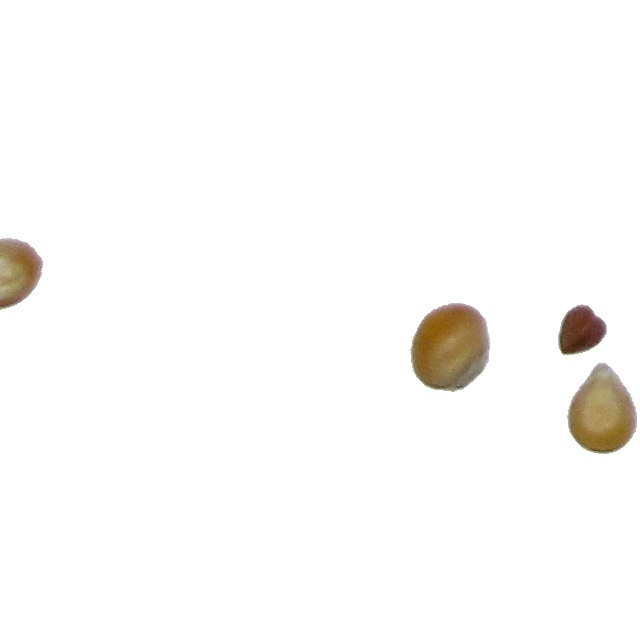mais: (409, 302, 492, 393), (566, 362, 638, 455)
other: (557, 303, 608, 356)
